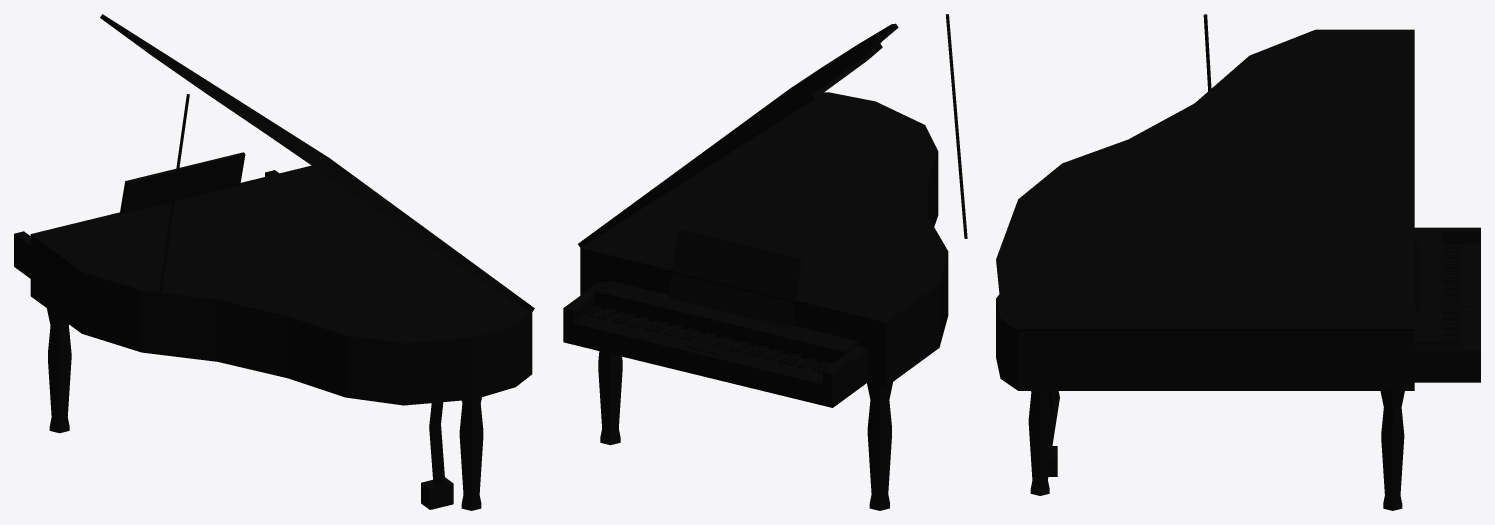
File: SM_piano_grand.fbx
The picture shows the model from 3 angles, left to right: view 1: azimuth 30°, elevation 25°; view 2: azimuth 150°, elevation 25°; view 3: azimuth 270°, elevation 25°; orthographic projection. The views are drawn at different scales.
Parts seen in each view (by area): view 1: piano_grand; view 2: piano_grand; view 3: piano_grand.
Part boxes in pixels (<box>): piano_grand: <box>14,14,534,510</box>; piano_grand: <box>563,14,967,510</box>; piano_grand: <box>996,14,1480,510</box>.
Bounding box in the file's own units: 1.51 × 1.92 × 2.2.
